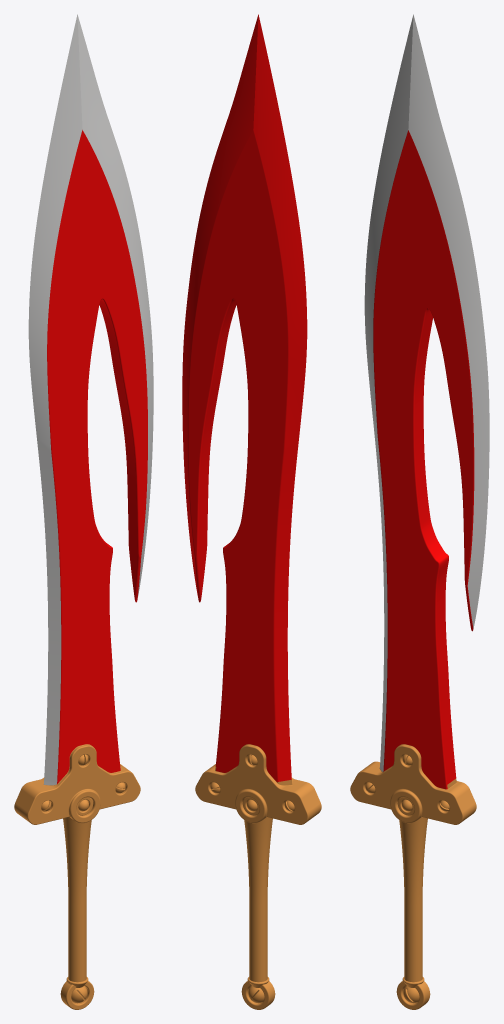
The model's file is BasicHunter.fbx.
The picture shows the model from 3 angles, left to right: view 1: azimuth 30°, elevation 25°; view 2: azimuth 150°, elevation 25°; view 3: azimuth 330°, elevation 25°; orthographic projection.
Visible parts, largest first — view 1: FFX_Tidus_Longsword; view 2: FFX_Tidus_Longsword; view 3: FFX_Tidus_Longsword.
Boxes of the visible parts, left/top/right/bottom form: FFX_Tidus_Longsword: left=14, top=14, right=153, bottom=1009; FFX_Tidus_Longsword: left=182, top=14, right=321, bottom=1009; FFX_Tidus_Longsword: left=350, top=14, right=489, bottom=1009.
Bounding box in the file's own units: 3838 × 27459 × 850.
